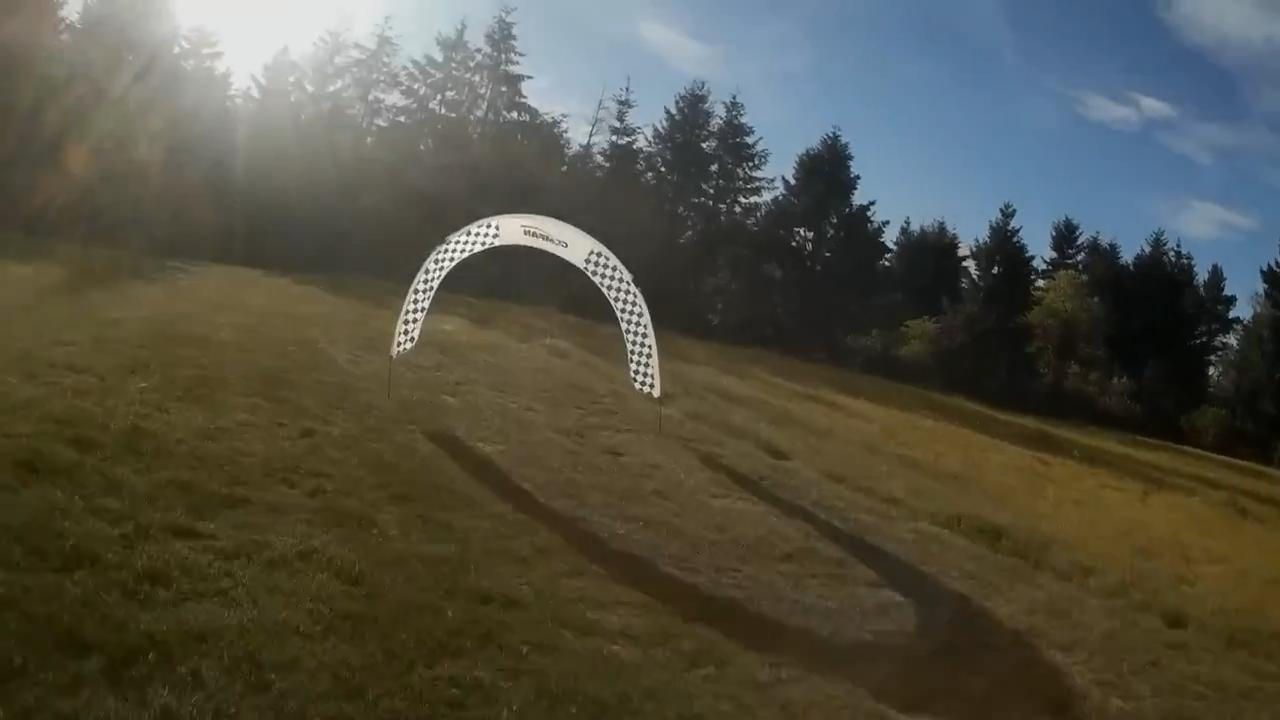gate: (389, 212, 663, 398)
